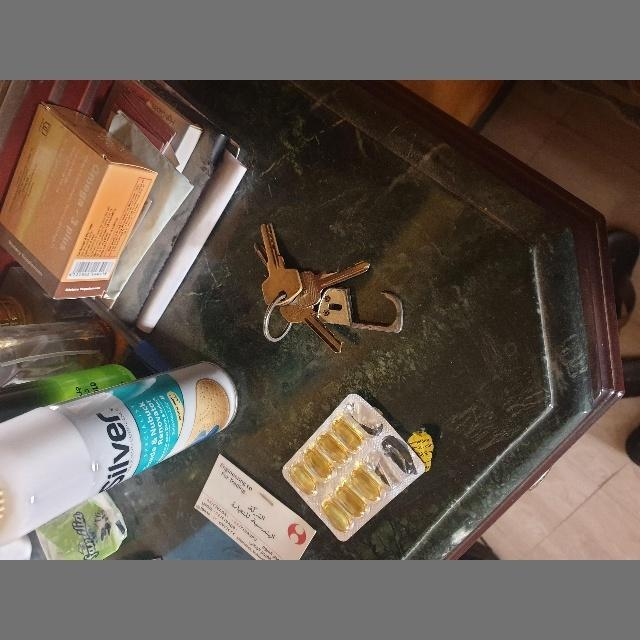Keys: (256, 260, 464, 390)
